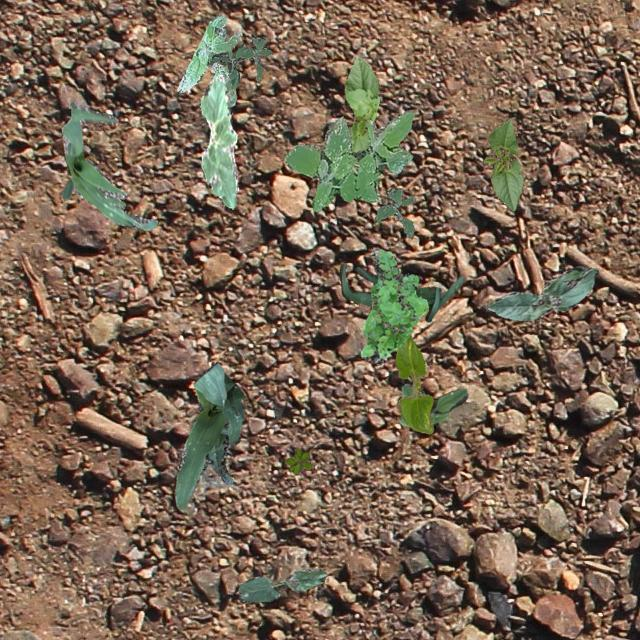crop: (60, 100, 156, 230), (174, 362, 243, 508), (338, 262, 464, 321), (486, 264, 598, 320), (198, 72, 238, 208), (393, 334, 432, 434), (482, 118, 524, 210), (344, 54, 379, 152), (238, 568, 326, 602)
weed: (284, 108, 414, 210), (360, 248, 428, 364), (176, 13, 240, 106), (210, 36, 270, 88), (398, 382, 467, 426), (374, 186, 414, 238), (284, 448, 312, 472)
